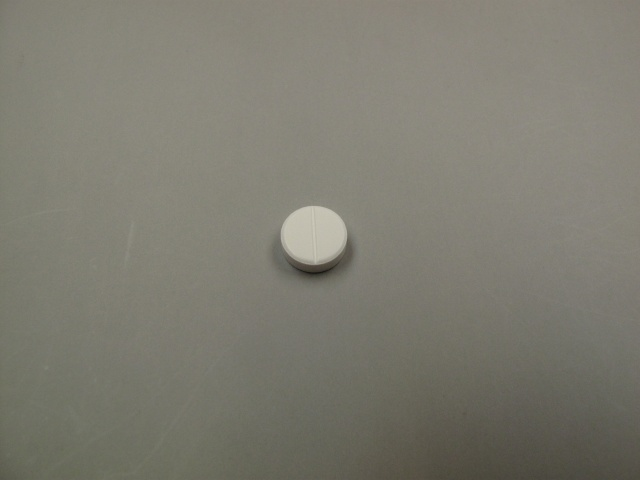|: (306, 204, 322, 268)
